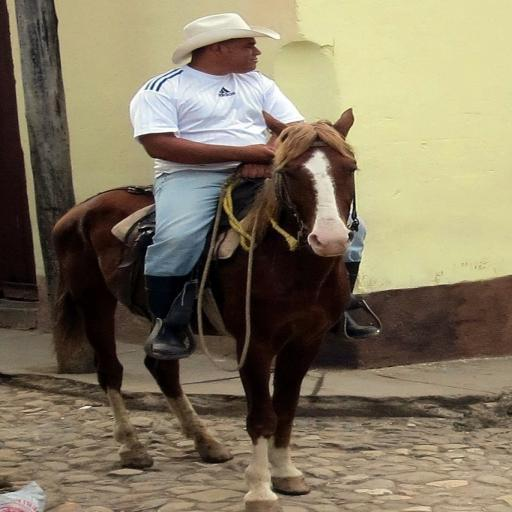horse: (42, 104, 362, 512)
